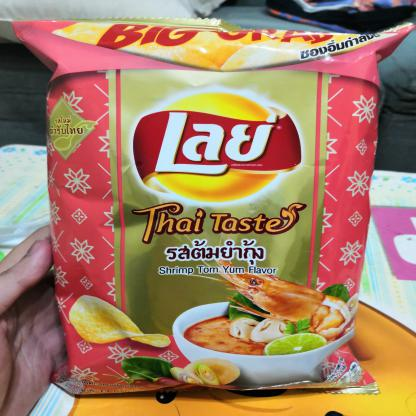potatochip: (0, 12, 416, 404)
